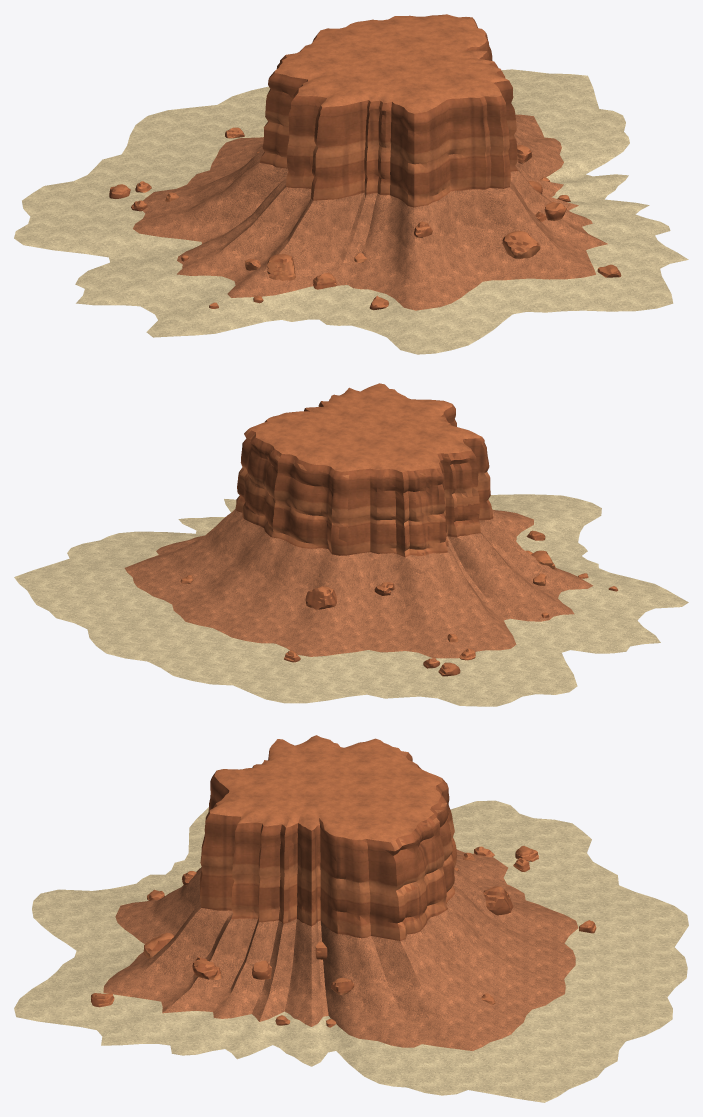
File: desert-mesa.glb
3 renders of one model, top to bottom at view 1: azimuth 30°, elevation 25°; view 2: azimuth 150°, elevation 25°; view 3: azimuth 270°, elevation 25°, orthographic. The views are drawn at different scales.
Visible parts, largest first — view 1: Desert_Mesa; view 2: Desert_Mesa; view 3: Desert_Mesa.
Boxes of the visible parts, x1,y1,x2,y2 form: Desert_Mesa: (14,14,688,354); Desert_Mesa: (14,383,688,706); Desert_Mesa: (14,735,688,1102).
Bounding box in the file's own units: 22.68 × 5.71 × 20.71.
4 materials, 4 textured.
